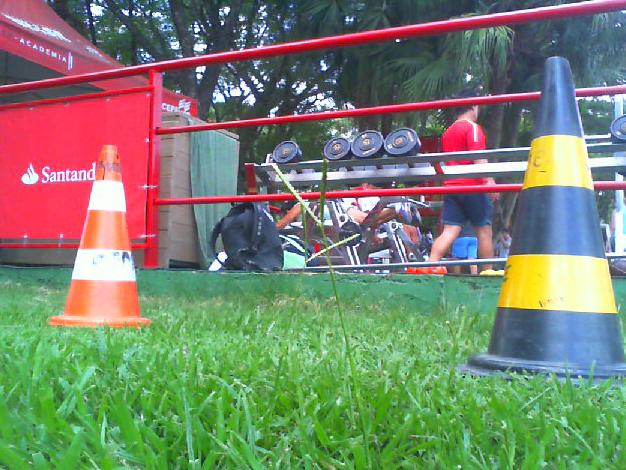0 cone: (455, 57, 626, 385), (47, 145, 152, 328)
